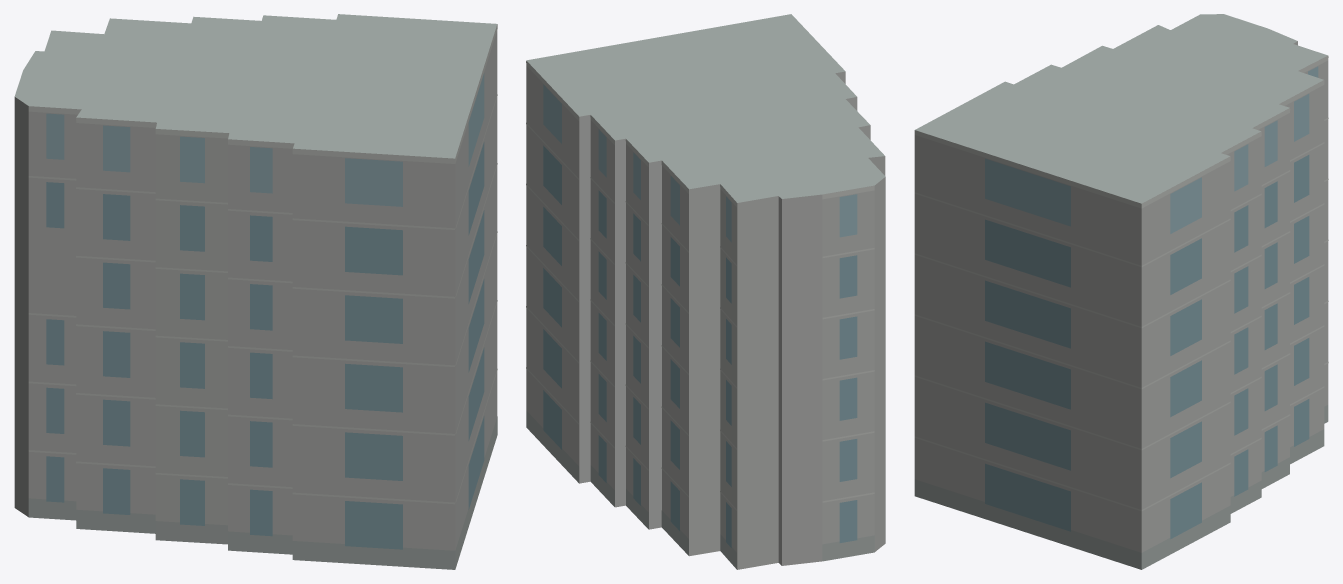
Rendered from survey-upis-32507589.glb.
The picture shows the model from 3 angles, left to right: view 1: azimuth 30°, elevation 25°; view 2: azimuth 150°, elevation 25°; view 3: azimuth 270°, elevation 25°; orthographic projection. The views are drawn at different scales.
Parts seen in each view (by area): view 1: survey-upis-32507589.tmp; view 2: survey-upis-32507589.tmp; view 3: survey-upis-32507589.tmp.
Part boxes in pixels (box(x1,y1,x2,y2)): survey-upis-32507589.tmp: box(14, 14, 497, 569); survey-upis-32507589.tmp: box(526, 14, 885, 569); survey-upis-32507589.tmp: box(914, 14, 1328, 569).
Size of the model in its own units: 20.35 by 18.3 by 18.75.
